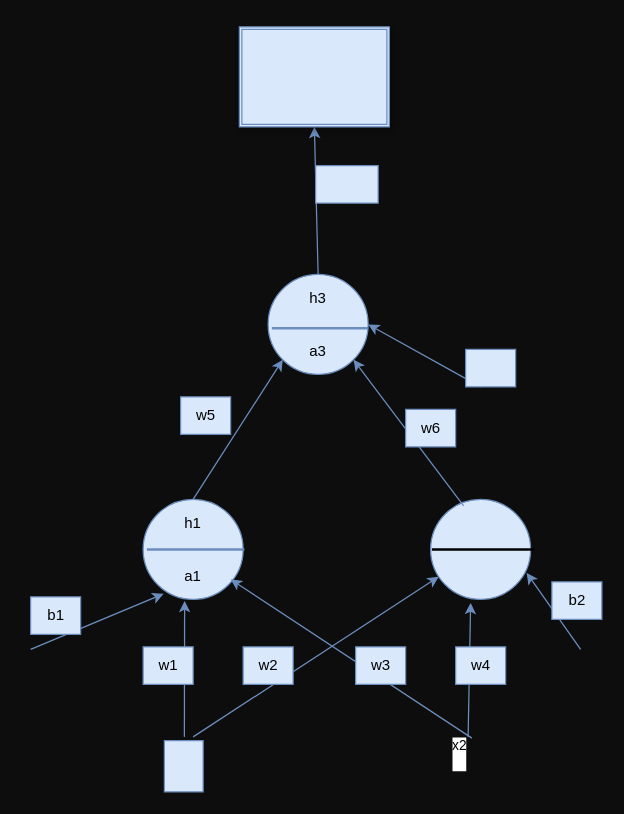
The diagram is 624 pixels wide and 814 high, and some of its shapes have lost their labels. Here are the shapes that lost their labels. From the top down, the centre of each, then its label:
the point at 315,78: Loss Funtion
the point at 346,183: y Hat
the point at 490,367: b3
the point at 480,548: h2 a2
the point at 183,765: x1
